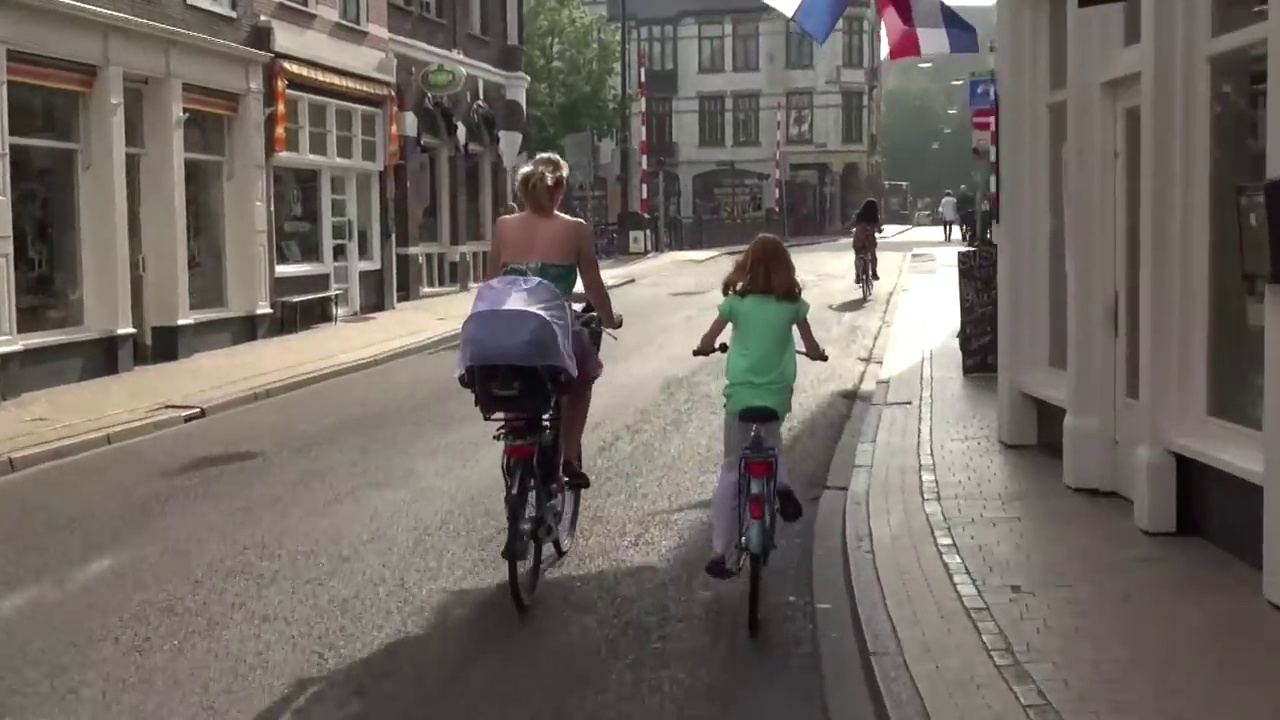cyclist_back: (458, 145, 620, 600), (703, 234, 806, 638), (847, 196, 884, 307)
